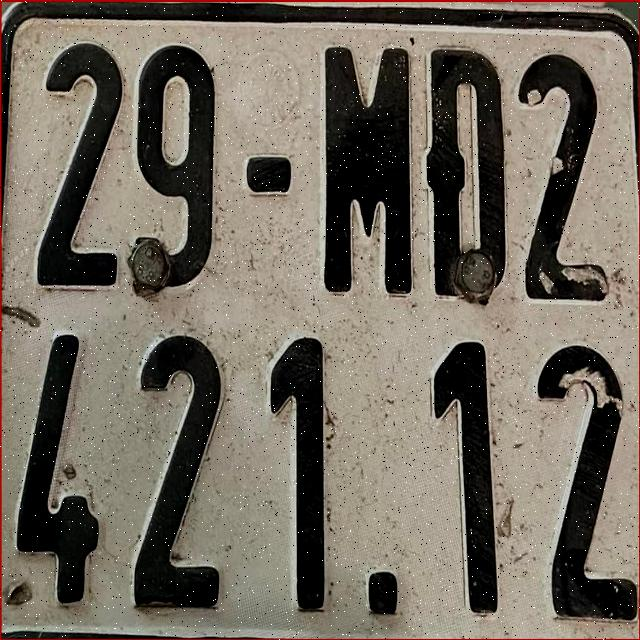1: (424, 331, 502, 618), (259, 328, 327, 614)
2: (123, 322, 232, 612), (531, 332, 635, 614), (28, 33, 127, 295), (513, 44, 613, 302)
4: (6, 323, 108, 608)
9: (127, 36, 223, 295)
D: (421, 42, 514, 304)
M: (319, 34, 414, 296)
